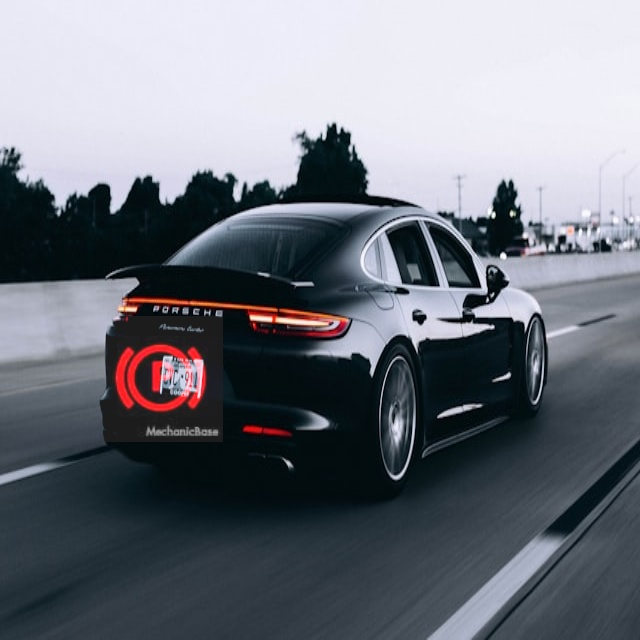symbol: (97, 316, 223, 442)
